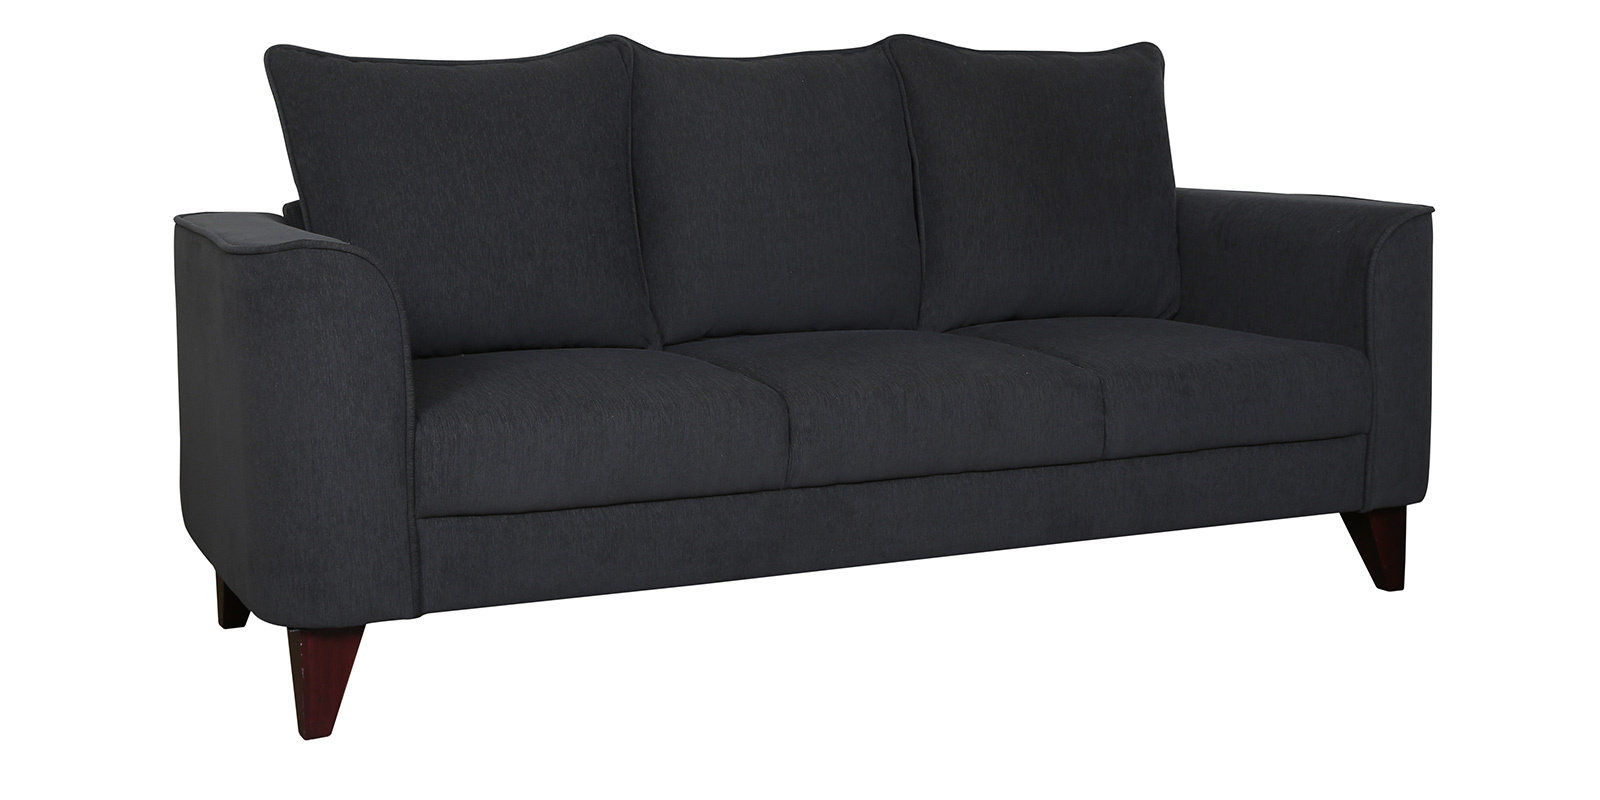Lara Three Seater Sofa in Charcoal Grey Colour by CasaCraft: (173, 29, 1437, 737)
